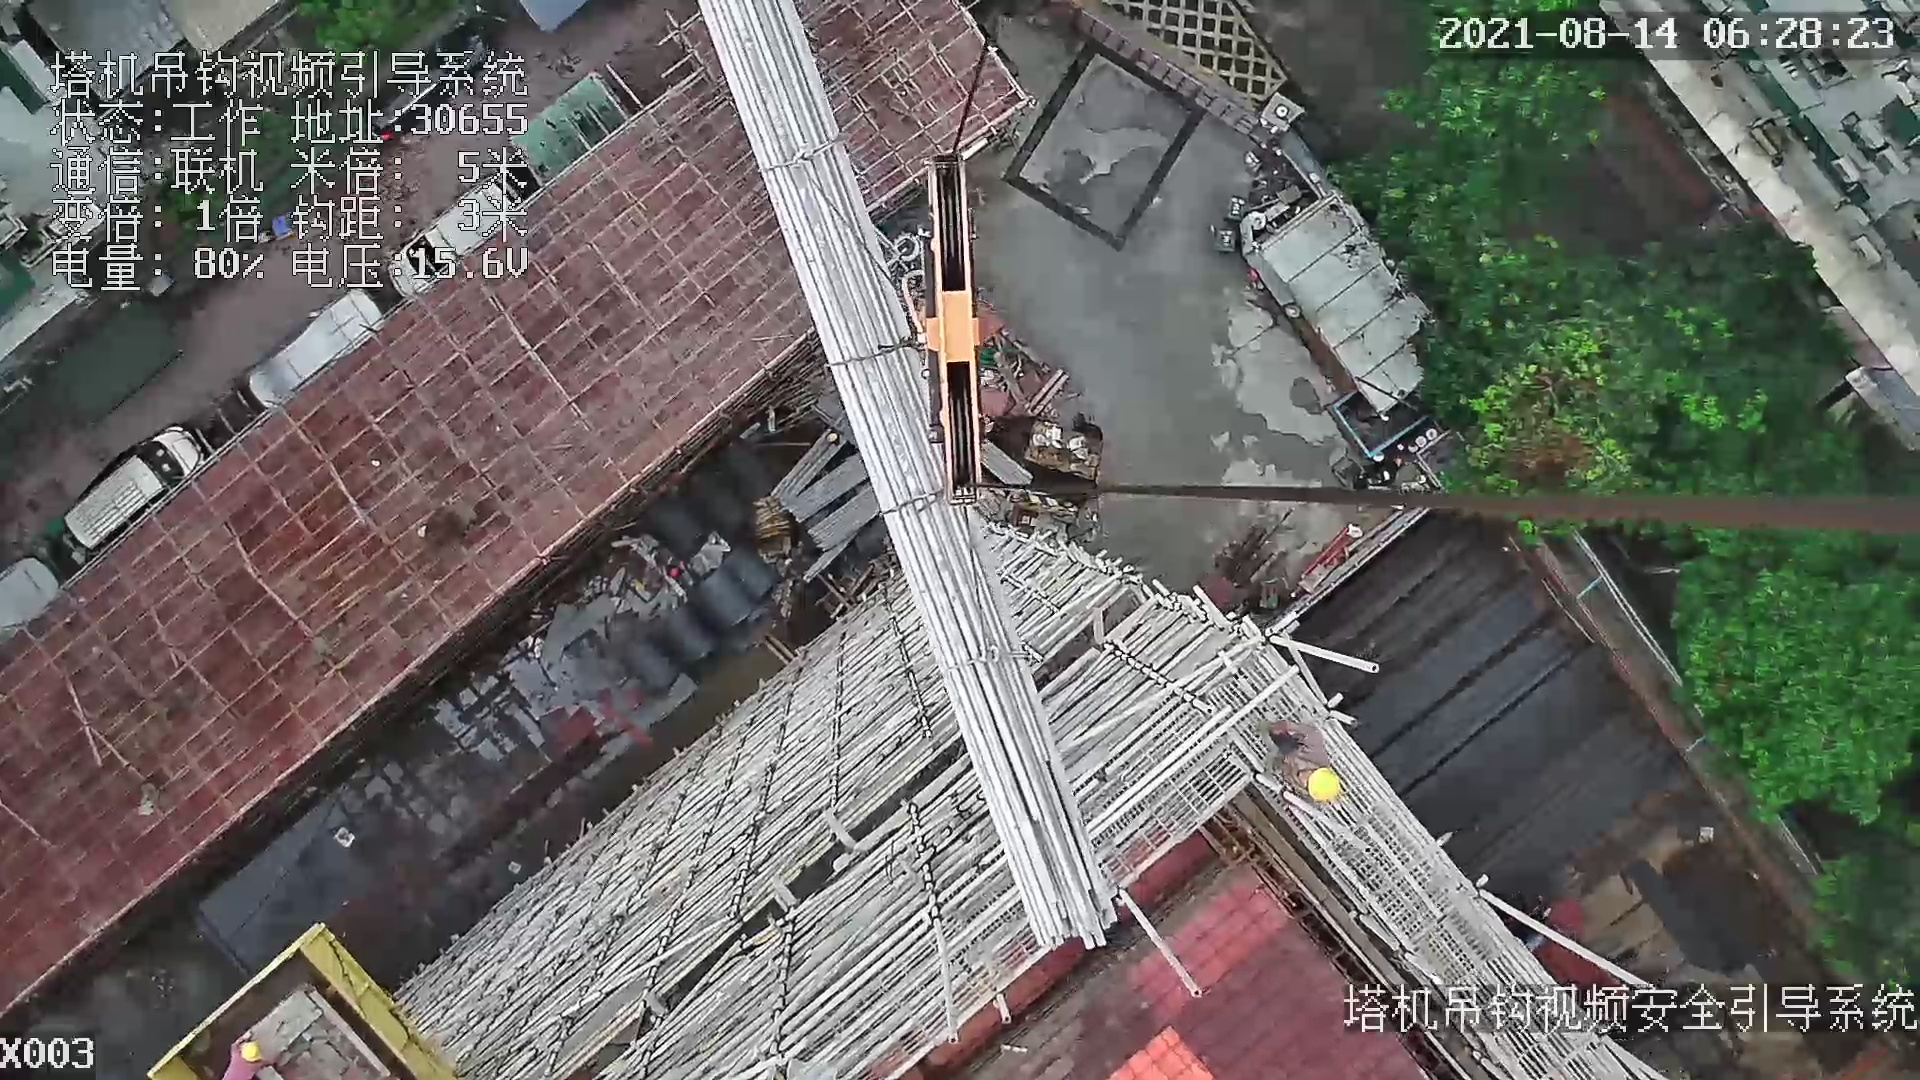helmet: (1293, 751, 1345, 807), (236, 1040, 266, 1064)
hook: (924, 153, 988, 504)
person: (1254, 715, 1342, 808), (219, 1027, 274, 1080)
